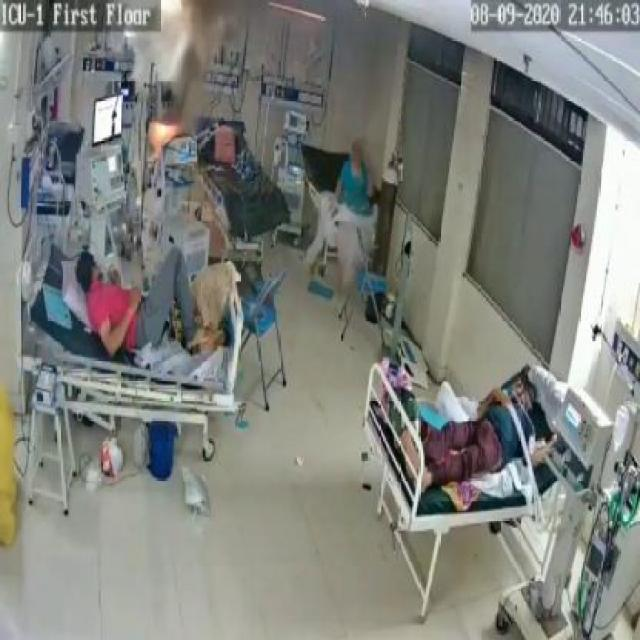fire: (146, 125, 177, 162)
smoke: (160, 13, 203, 104)
